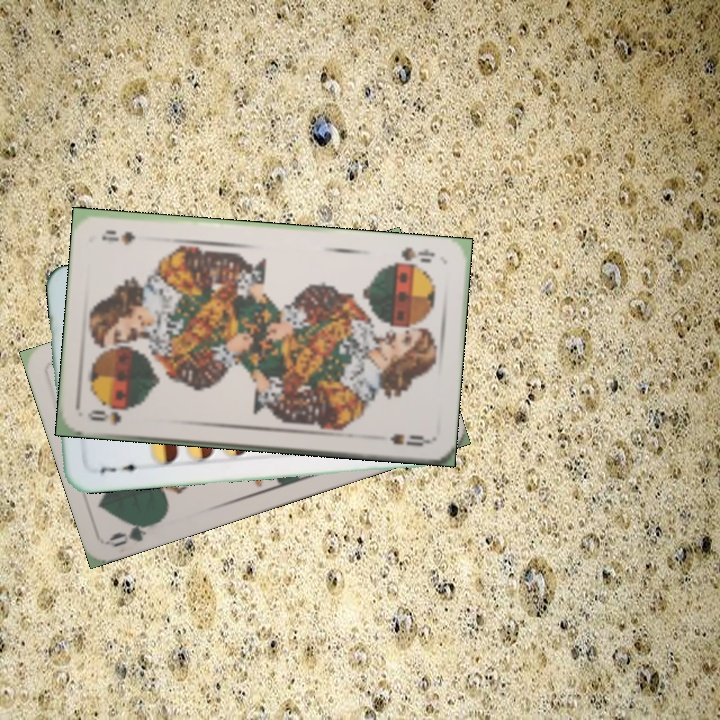E7: (95, 460, 144, 476)
GO: (106, 517, 163, 550)
SO: (390, 243, 438, 269), (83, 404, 131, 428)
